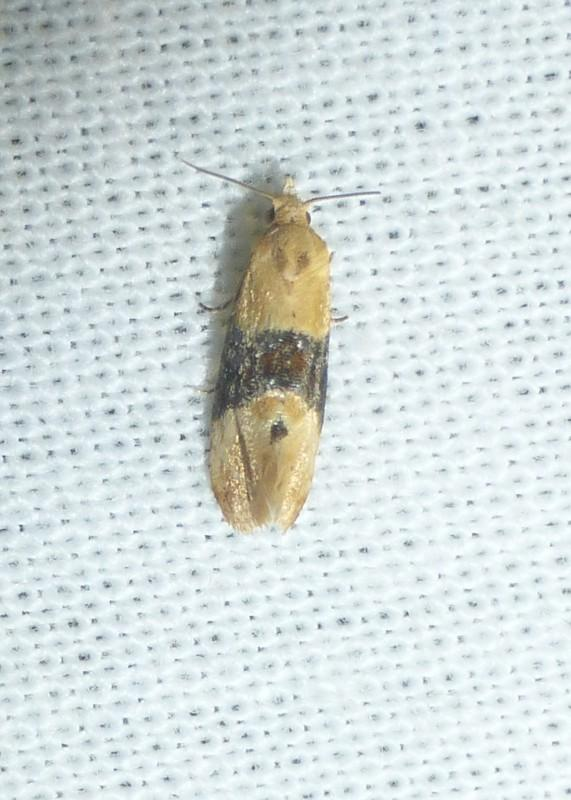Eupoecilia Ambiguella: (177, 156, 383, 537)
